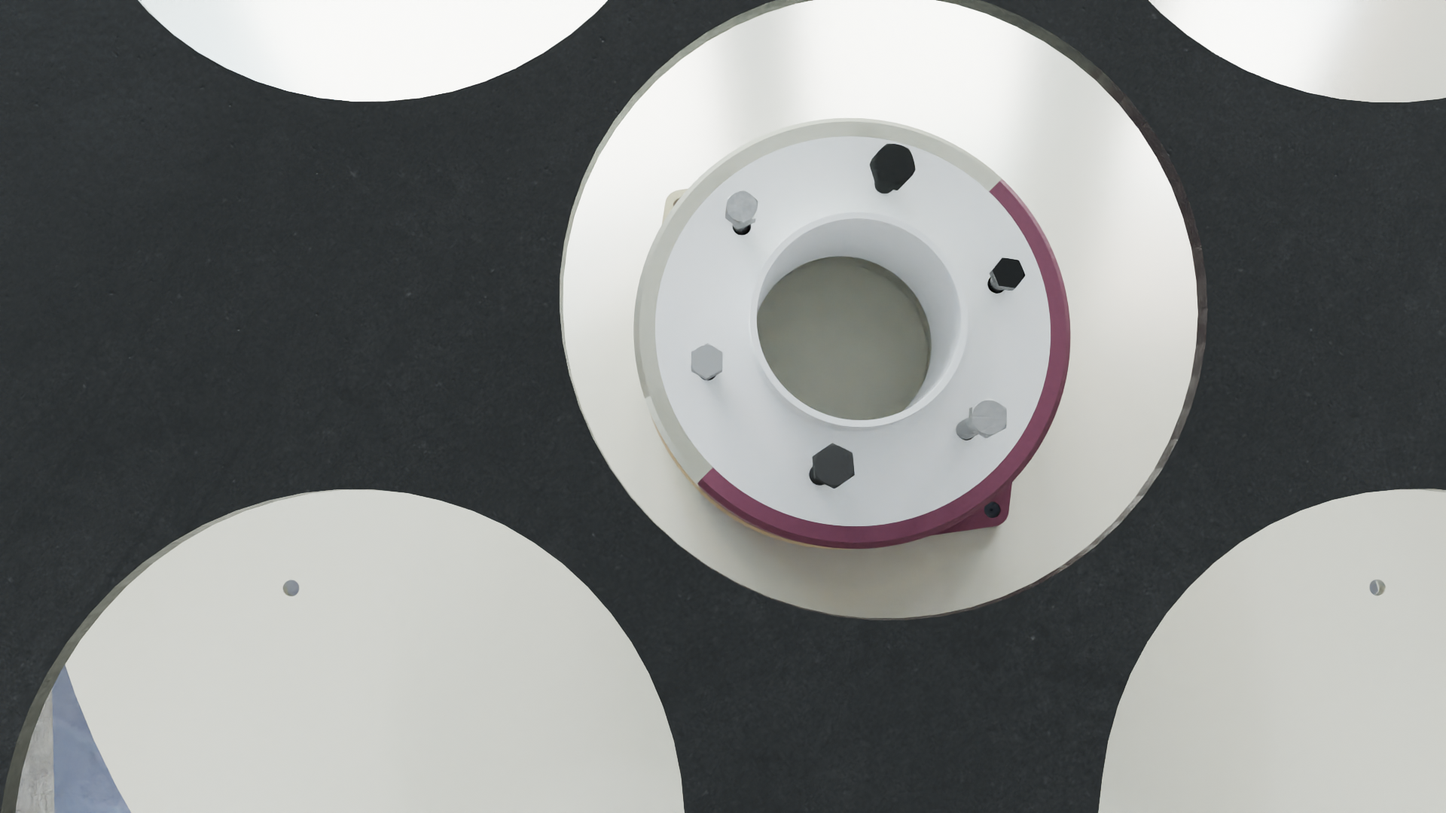bolt: (813, 443, 855, 488), (871, 144, 916, 185), (972, 397, 1007, 437), (725, 190, 758, 224), (691, 343, 722, 379), (992, 257, 1026, 288)
